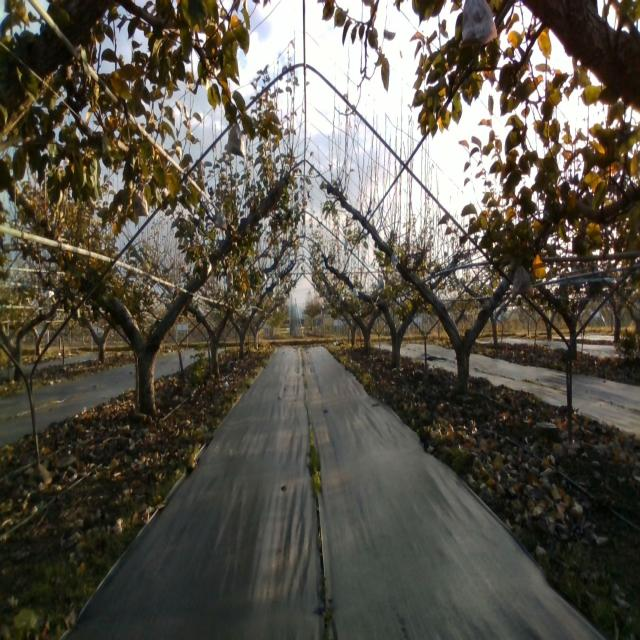pearbags: (462, 0, 498, 45), (512, 264, 533, 298), (226, 120, 244, 159), (130, 188, 150, 218), (215, 205, 227, 231)
